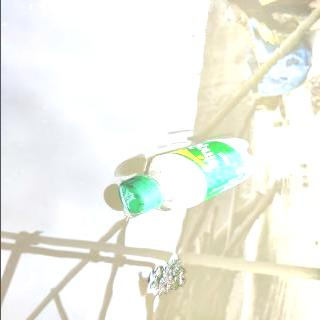bottle: (117, 136, 263, 220)
